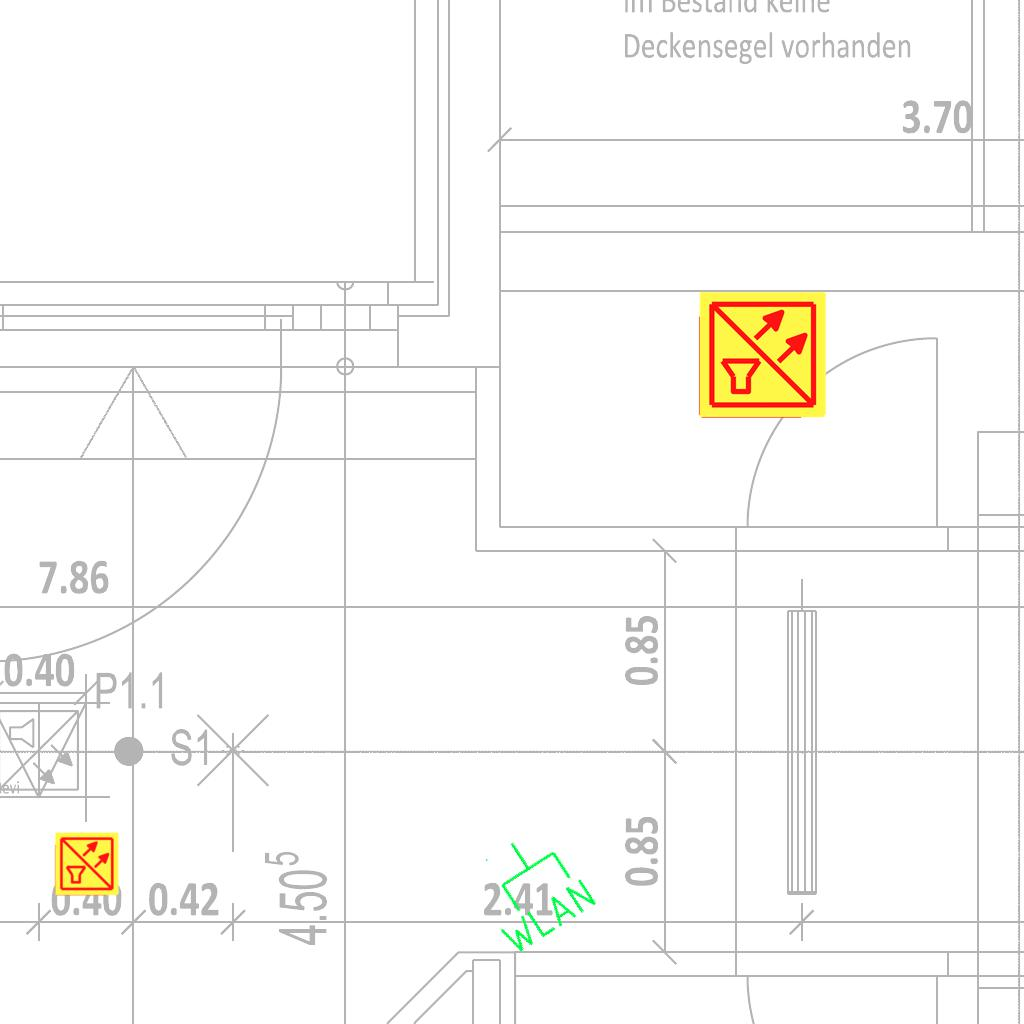OKW_Multisensormelder_(Kombination_optischer_Rauch-Kahlenmonoxid_Waerme-Melder): (697, 289, 829, 421), (54, 831, 120, 897)
WLAN: (457, 817, 603, 962)
